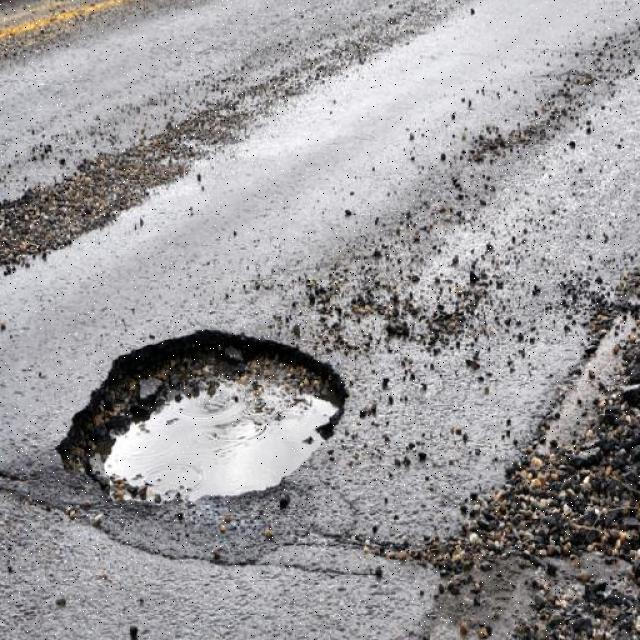pothole: (59, 331, 349, 502)
